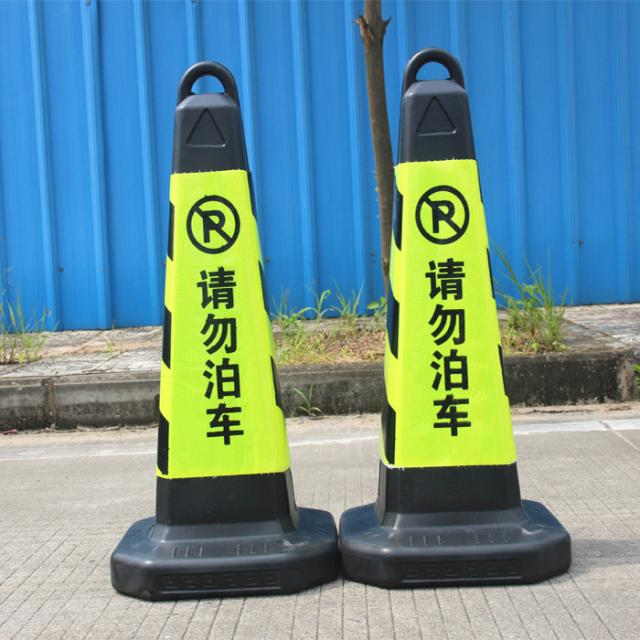reflective_cone: (340, 44, 580, 589), (112, 56, 339, 597)
